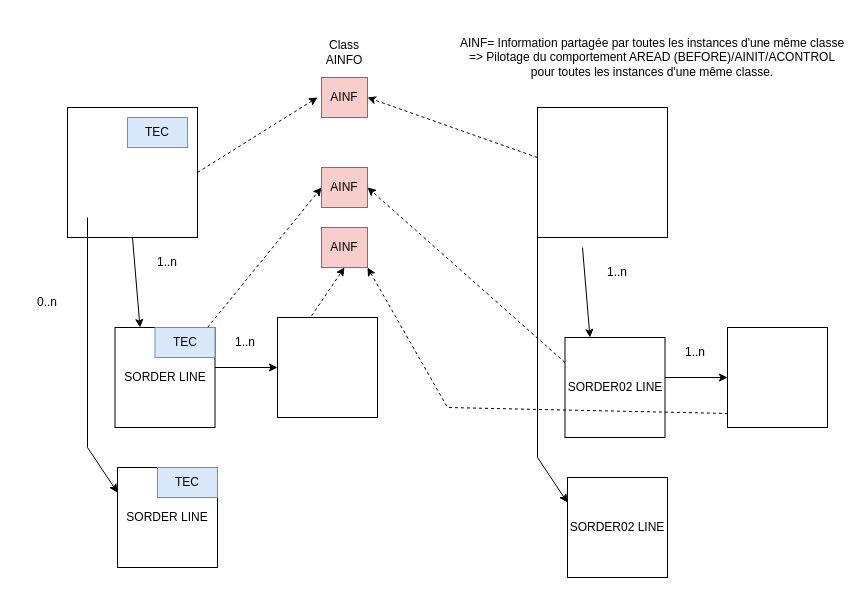
Image size: 864x595. Some labels were removed from this diagram. The box of each missing label's shape, as (x1, y1, x2, y2) in pixels:
Class SORDER01: (66, 106, 198, 238)
Class SORDER02: (536, 106, 668, 238)
SORDER LINE DET: (276, 316, 378, 418)
SORDER02 LINE DET: (726, 326, 828, 428)
